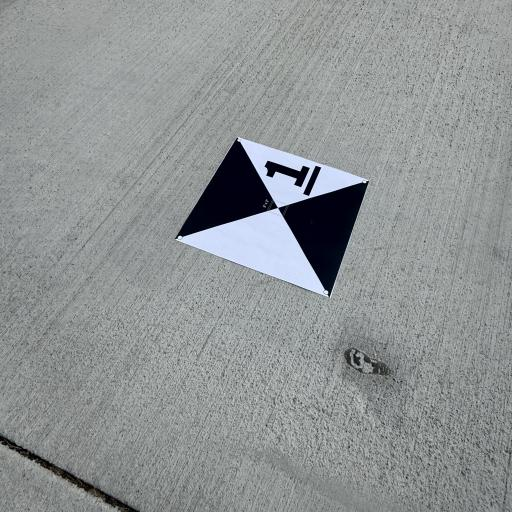target1: (174, 130, 375, 304)
